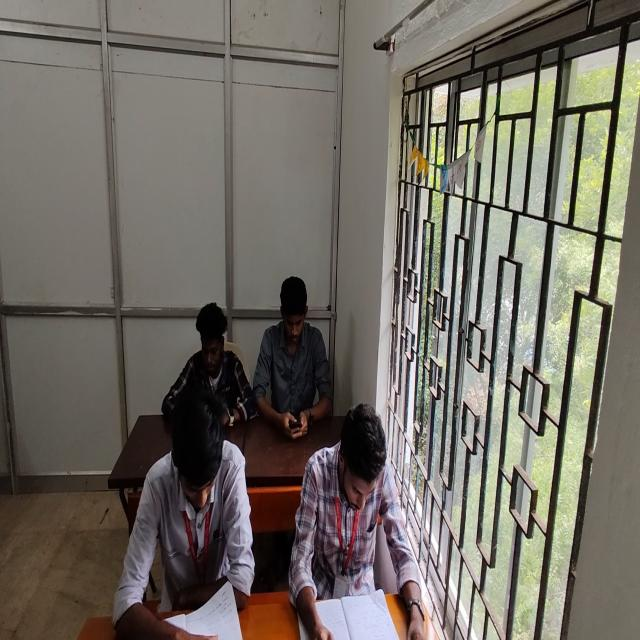reading: (285, 388, 430, 640), (112, 396, 258, 640)
using_mobile: (146, 276, 255, 440), (248, 265, 339, 435)
